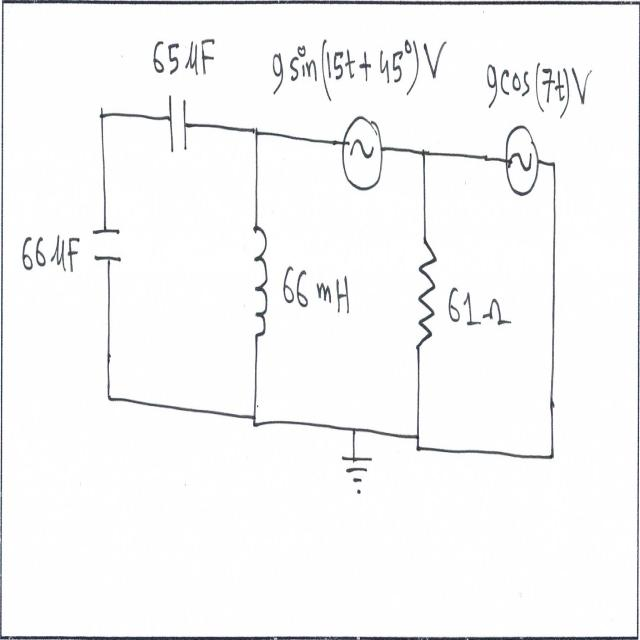ac_current: (340, 109, 386, 197), (502, 115, 540, 205)
capacitor: (163, 85, 192, 165), (91, 220, 126, 272)
ground: (338, 450, 374, 500)
inductor: (247, 216, 270, 348)
resistor: (415, 235, 439, 355)
